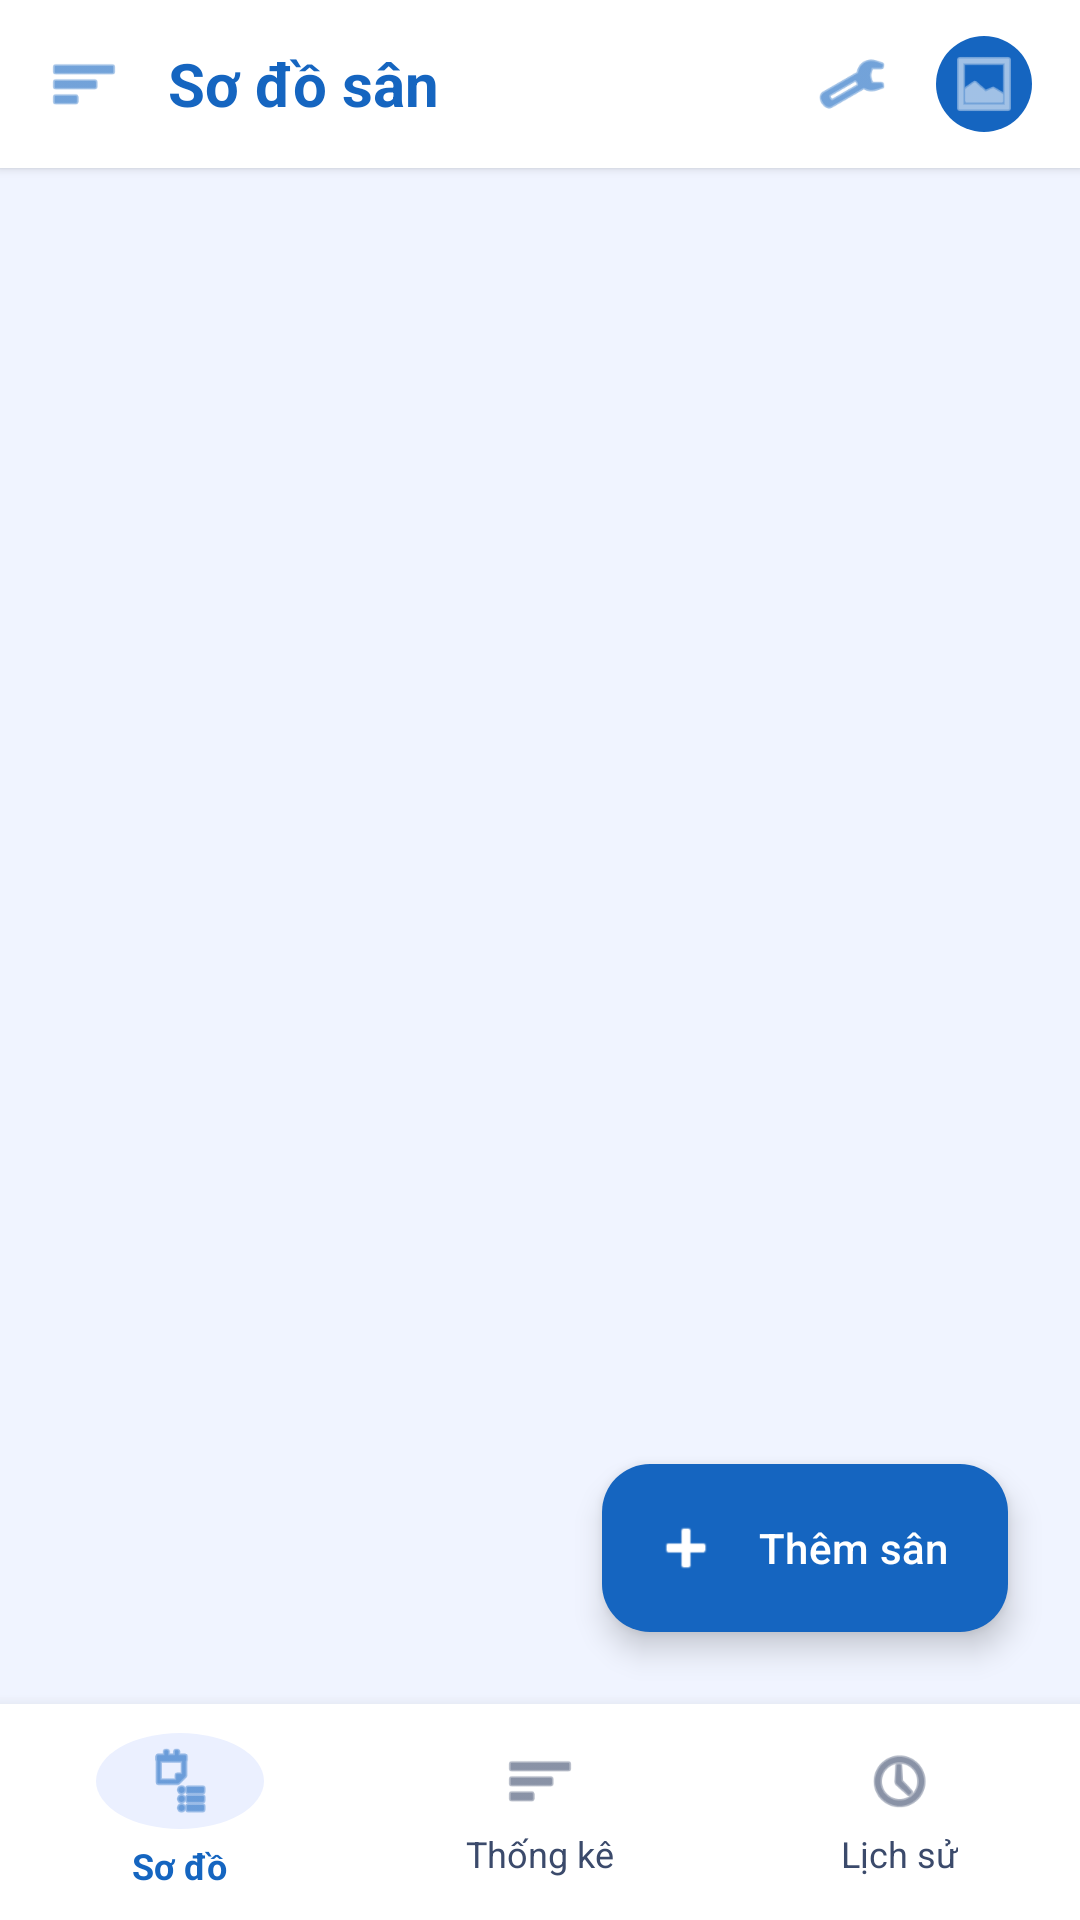

Icon bounding boxes for this 1080 × 1920 phone screenshot, format (x1, y1, x2, y2):
agenda: (155, 1749, 206, 1813)
gallery: (936, 36, 1032, 132)
sort by size: (53, 64, 115, 105), (509, 1761, 571, 1802)
